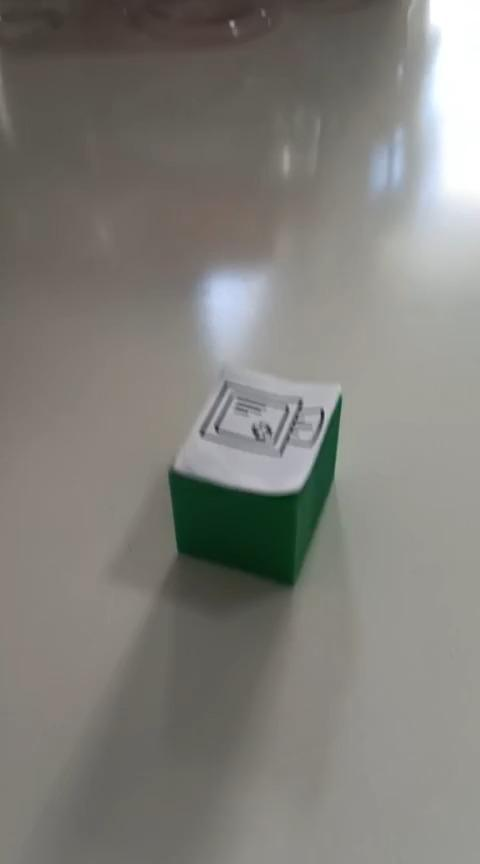Gauze: (167, 367, 343, 586)
